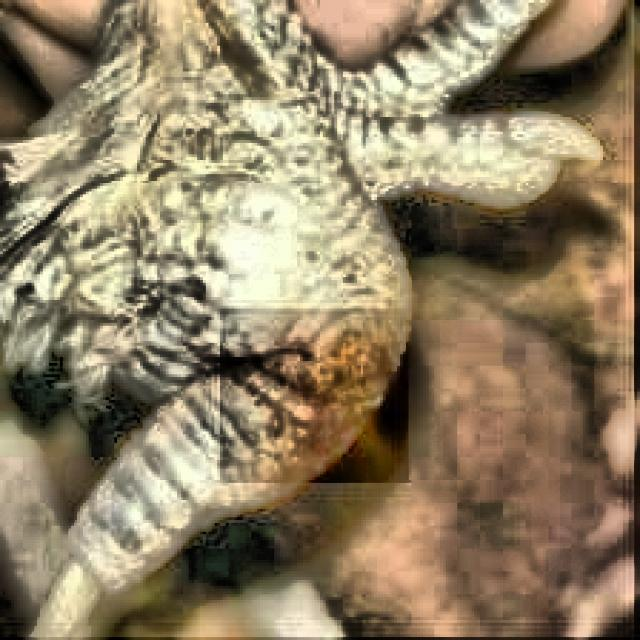Bumble foot: (220, 296, 442, 494)
